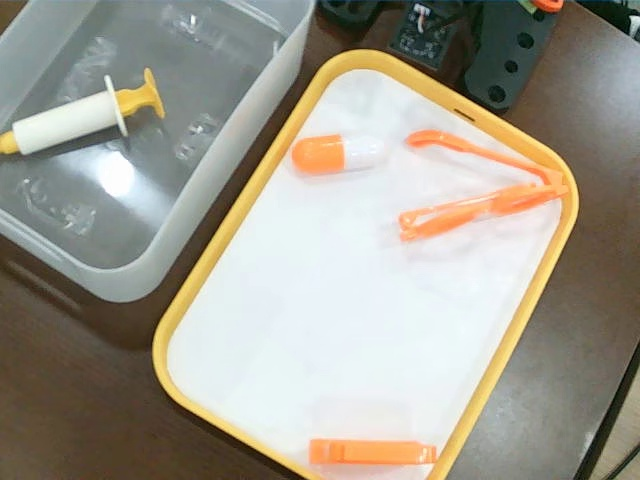pill: (291, 128, 390, 179)
syringe: (3, 68, 163, 162)
